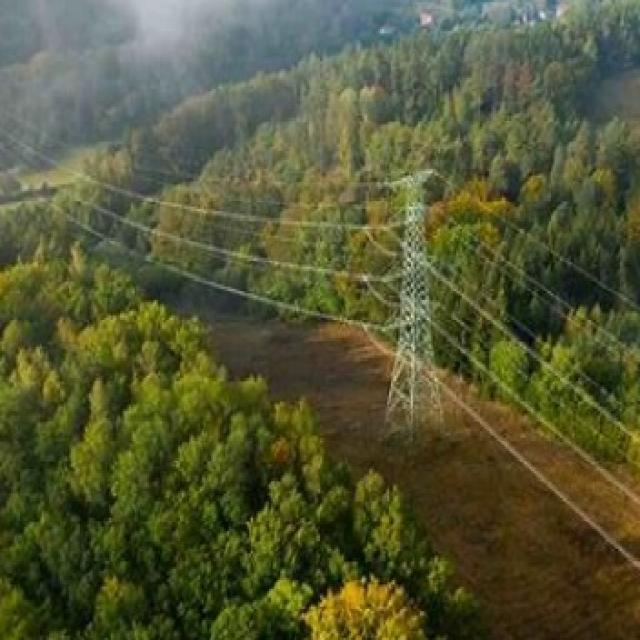utility poles: (363, 160, 469, 436)
